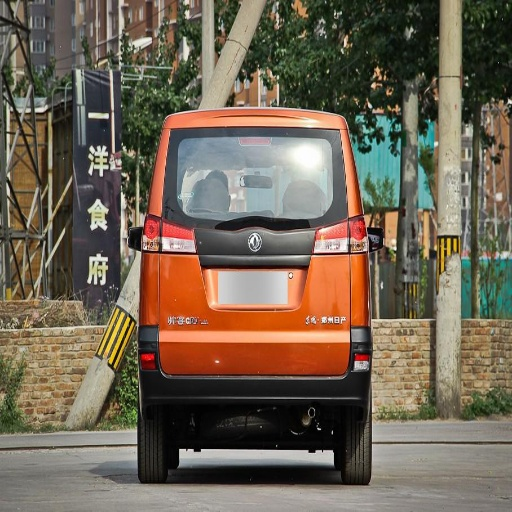back_bumper: (134, 319, 370, 435)
trunk: (141, 184, 350, 369)
